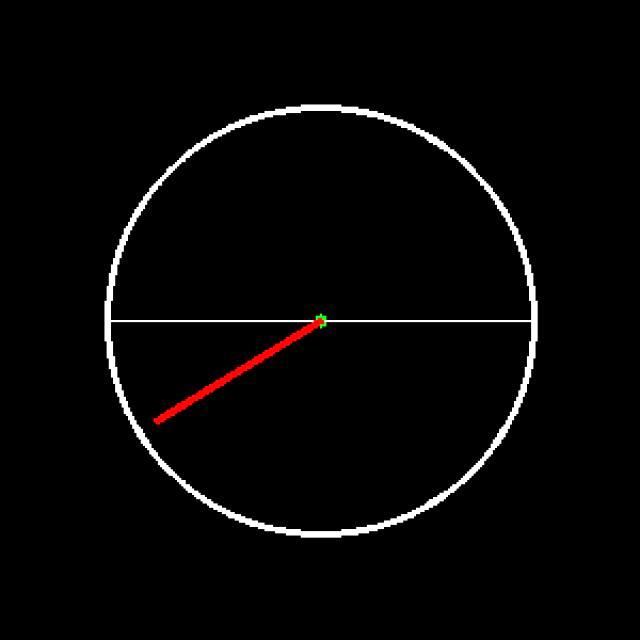Needle_Tip: (140, 388, 190, 453)
Needle_base: (297, 301, 345, 345)
